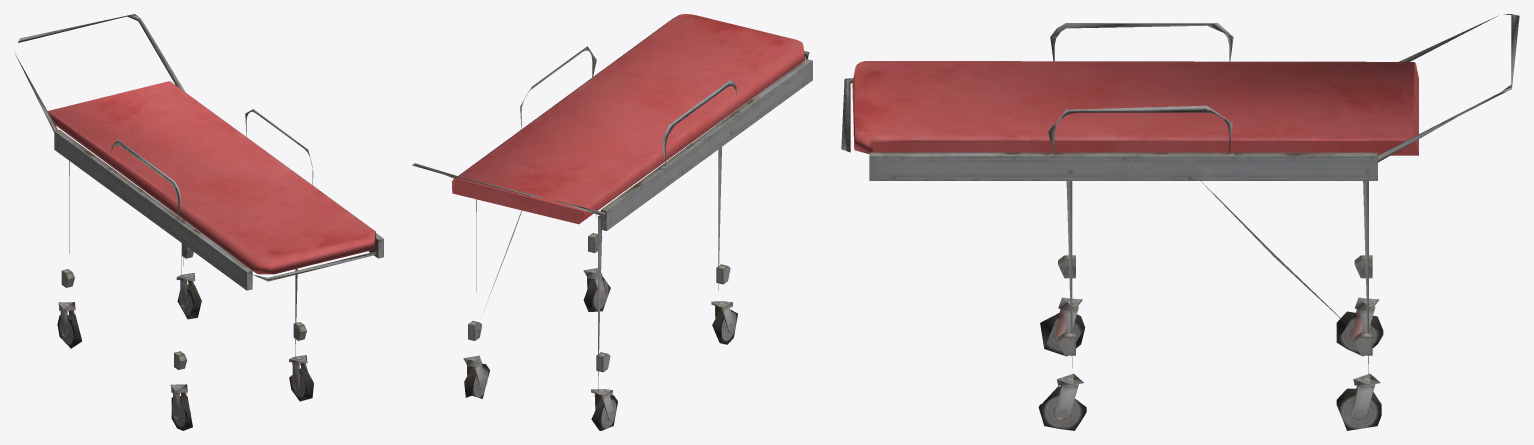
The model's file is stretcher.lod1.glb.
3 views of the same model, side by side, from view 1: azimuth 30°, elevation 25°; view 2: azimuth 150°, elevation 25°; view 3: azimuth 270°, elevation 25° (orthographic). The views are drawn at different scales.
Parts seen in each view (by area): view 1: Stretcher_Material #82_0; view 2: Stretcher_Material #82_0; view 3: Stretcher_Material #82_0.
Part boxes in pixels (x1=…): Stretcher_Material #82_0: x1=15, y1=14, x2=383, y2=430; Stretcher_Material #82_0: x1=412, y1=14, x2=812, y2=430; Stretcher_Material #82_0: x1=841, y1=14, x2=1519, y2=430.
Size of the model in its own units: 0.6798 by 1.23 by 2.2.
Materials: 1 (1 with a texture image).
